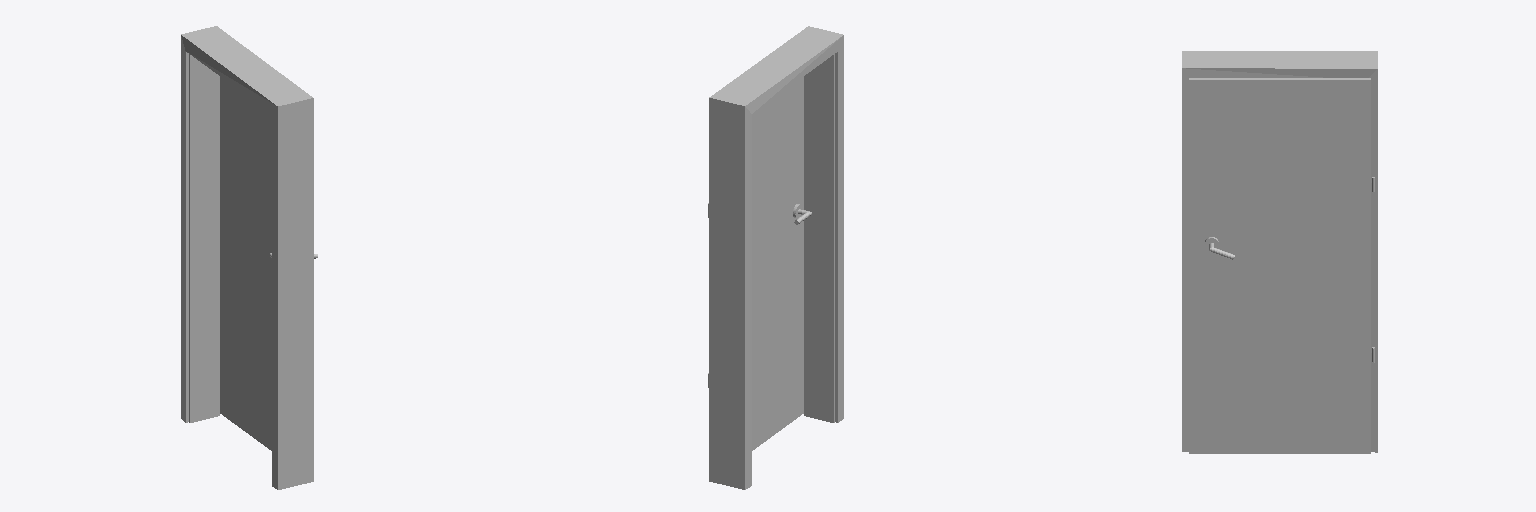
Rendered from door73.obj.
The picture shows the model from 3 angles: view 1: azimuth 30°, elevation 25°; view 2: azimuth 150°, elevation 25°; view 3: azimuth 270°, elevation 25°; orthographic projection.
Visible parts, largest first — view 1: Cylinder.005, Cylinder.001; view 2: Cylinder.005, Cylinder.001; view 3: Cylinder.001, Cylinder.005.
Part boxes in pixels (left/top/right/bottom): Cylinder.005: left=181, top=26, right=313, bottom=489; Cylinder.001: left=220, top=77, right=271, bottom=450; Cylinder.005: left=708, top=26, right=843, bottom=489; Cylinder.001: left=708, top=77, right=803, bottom=450; Cylinder.001: left=1189, top=78, right=1374, bottom=453; Cylinder.005: left=1182, top=51, right=1377, bottom=452.
Size of the model in its own units: 0.3039 by 2.05 by 0.95.